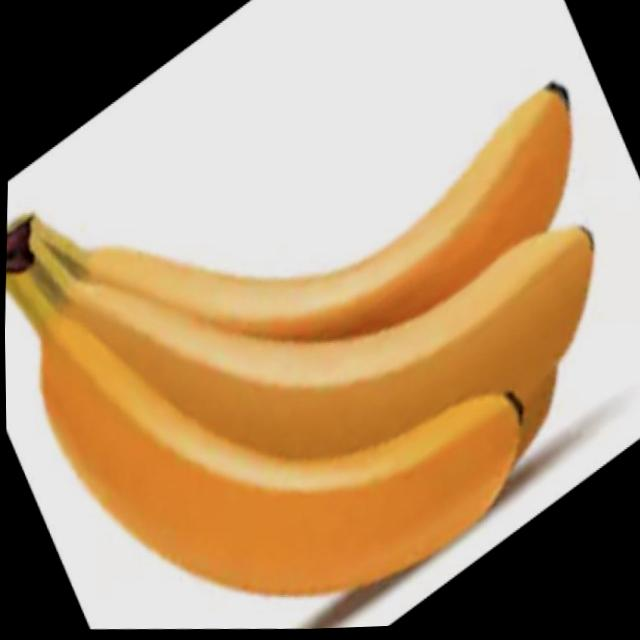Banana: (1, 63, 603, 617)
